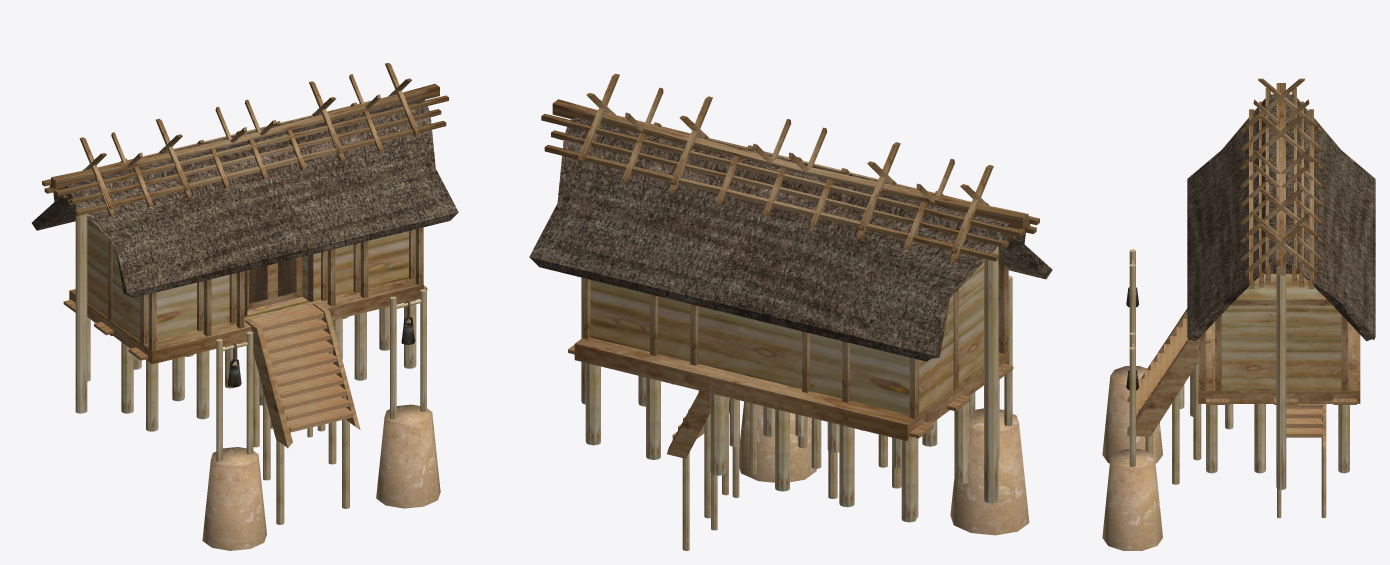
Rendered from yayoi_temple.dae.
3 views of the same model, side by side, from view 1: azimuth 30°, elevation 25°; view 2: azimuth 150°, elevation 25°; view 3: azimuth 270°, elevation 25° (orthographic). The views are drawn at different scales.
Visible parts, largest first — view 1: temple.001; view 2: temple.001; view 3: temple.001.
Boxes of the visible parts, bbox=[...] form: temple.001: bbox=[31, 62, 458, 550]; temple.001: bbox=[529, 73, 1052, 550]; temple.001: bbox=[1102, 78, 1375, 550].
Size of the model in its own units: 31.67 by 16.7 by 26.54.
1 material, 1 textured.
